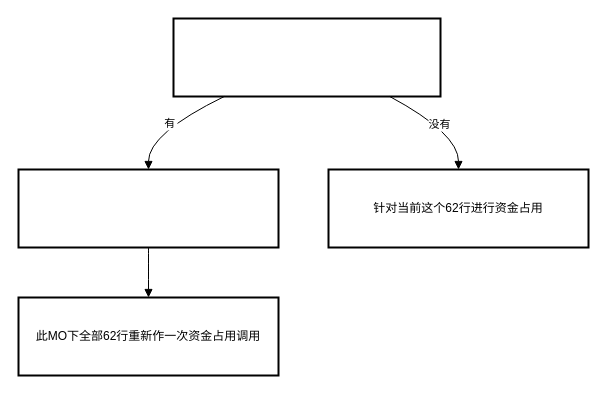
The diagram is 606 pixels wide and 393 high, and some of its shapes have lost their labels. The centre of each missing label's shape, as x and y in pixels:
"查询信控中心，62行当前的MO号是否有占用记录" belongs at [306,57].
"调用信控中心的资金占用接口，先把这部分对冲为0" belongs at [148,208].
